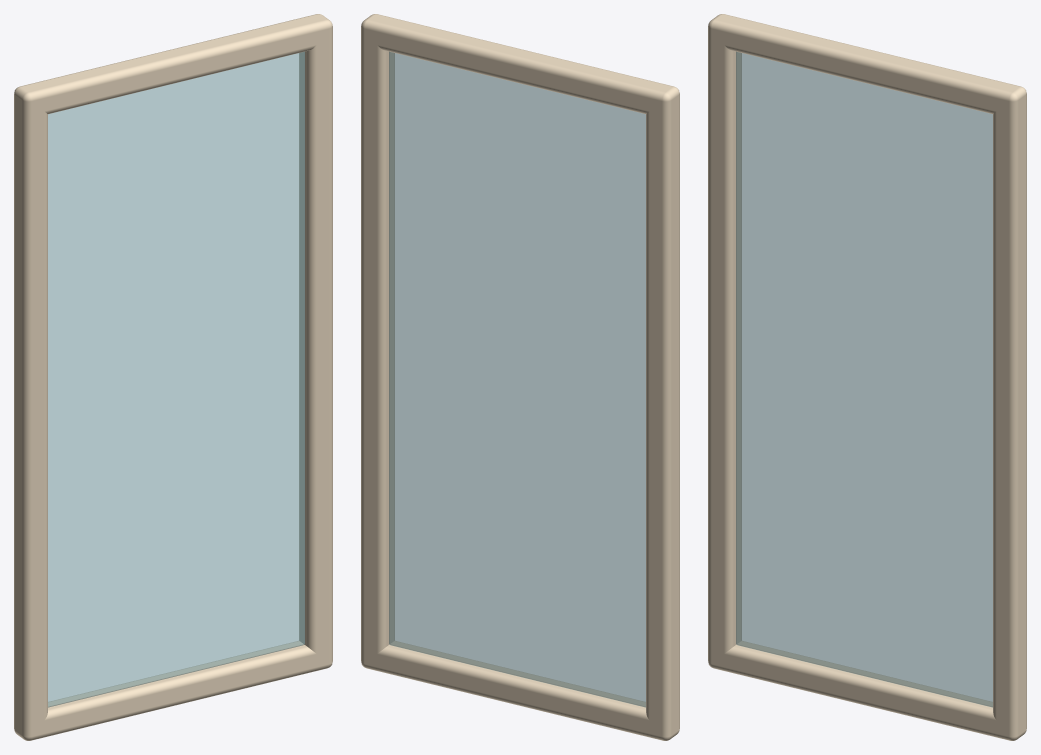
File: glass.glb
The picture shows the model from 3 angles, left to right: view 1: azimuth 30°, elevation 25°; view 2: azimuth 150°, elevation 25°; view 3: azimuth 330°, elevation 25°; orthographic projection.
Visible parts, largest first — view 1: glass-pane, frame-left, frame-right, frame-top, frame-bottom; view 2: glass-pane, frame-left, frame-right, frame-top, frame-bottom; view 3: glass-pane, frame-right, frame-left, frame-top, frame-bottom.
Boxes of the visible parts, bbox=[...] form: glass-pane: bbox=[48, 51, 304, 707]; frame-left: bbox=[14, 83, 47, 740]; frame-right: bbox=[299, 14, 332, 670]; frame-top: bbox=[14, 14, 332, 114]; frame-bottom: bbox=[15, 641, 332, 740]; glass-pane: bbox=[389, 51, 645, 707]; frame-left: bbox=[646, 83, 679, 740]; frame-right: bbox=[361, 14, 394, 670]; frame-top: bbox=[361, 15, 679, 114]; frame-bottom: bbox=[361, 641, 678, 740]; glass-pane: bbox=[736, 51, 992, 707]; frame-right: bbox=[993, 83, 1026, 740]; frame-left: bbox=[708, 14, 741, 670]; frame-top: bbox=[708, 15, 1026, 114]; frame-bottom: bbox=[708, 641, 1025, 740].
Bounding box in the file's own units: 1 × 2 × 0.08.
